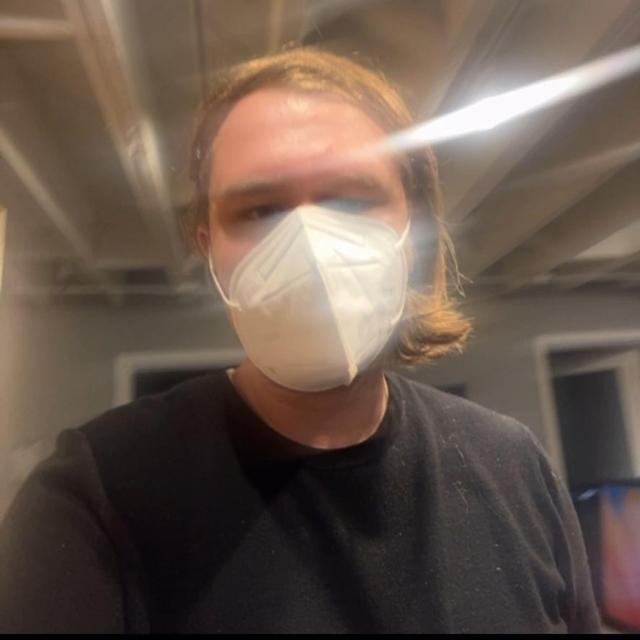no hat: (182, 62, 466, 408)
